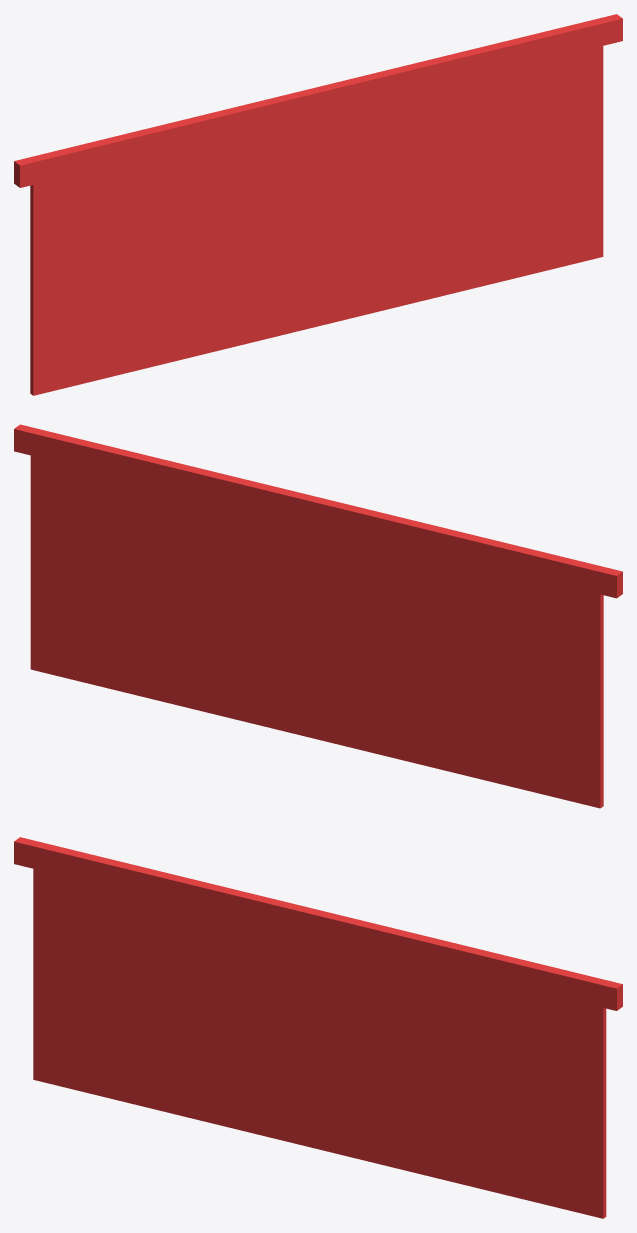
Rendered from Building_BuidlingBoard 1.FBX.
3 renders of one model, top to bottom at view 1: azimuth 30°, elevation 25°; view 2: azimuth 150°, elevation 25°; view 3: azimuth 330°, elevation 25°, orthographic.
Visible parts, largest first — view 1: BuildingBoard; view 2: BuildingBoard; view 3: BuildingBoard.
Part boxes in pixels (x1=…): BuildingBoard: x1=14, y1=14, x2=622, y2=395; BuildingBoard: x1=14, y1=424, x2=622, y2=808; BuildingBoard: x1=14, y1=837, x2=622, y2=1218.
Bounding box in the file's own units: 442 × 166 × 7.89.
